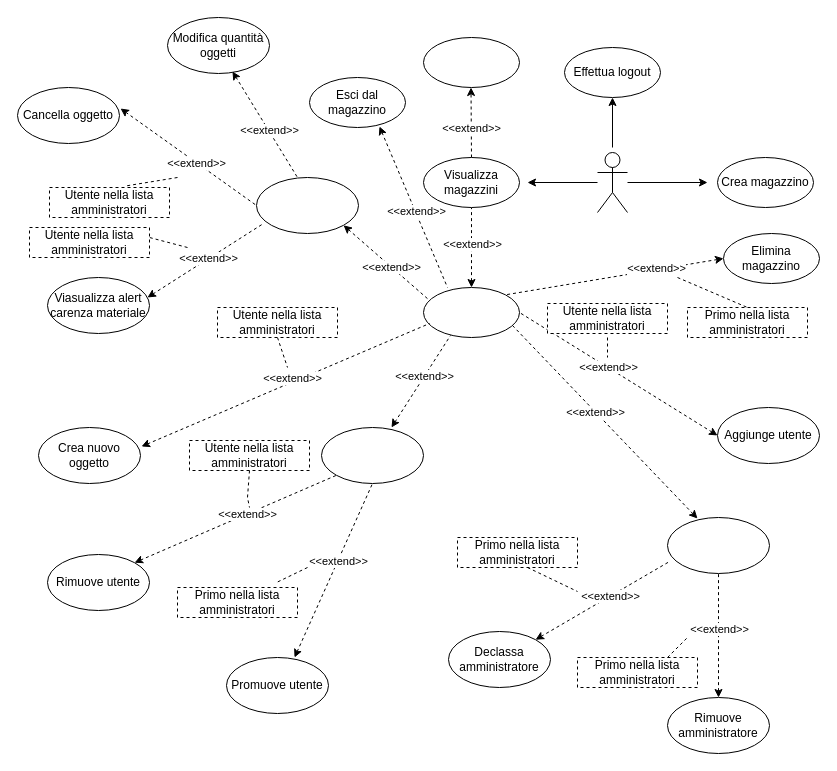
Image size: 837x771. Some labels were removed from this diagram. Here are the shapes that lost their labels. From the top down, the centre of each, then its label:
At (471,62): "Geolocalizza magazzino".
At (612,182): "Utente".
At (307,205): "Visualizza lista oggetti".
At (471,312): "Entra nel magazzino".
At (372,455): "Visualizza lista utenti".
At (718,545): "Visualizza lista amministratori".
